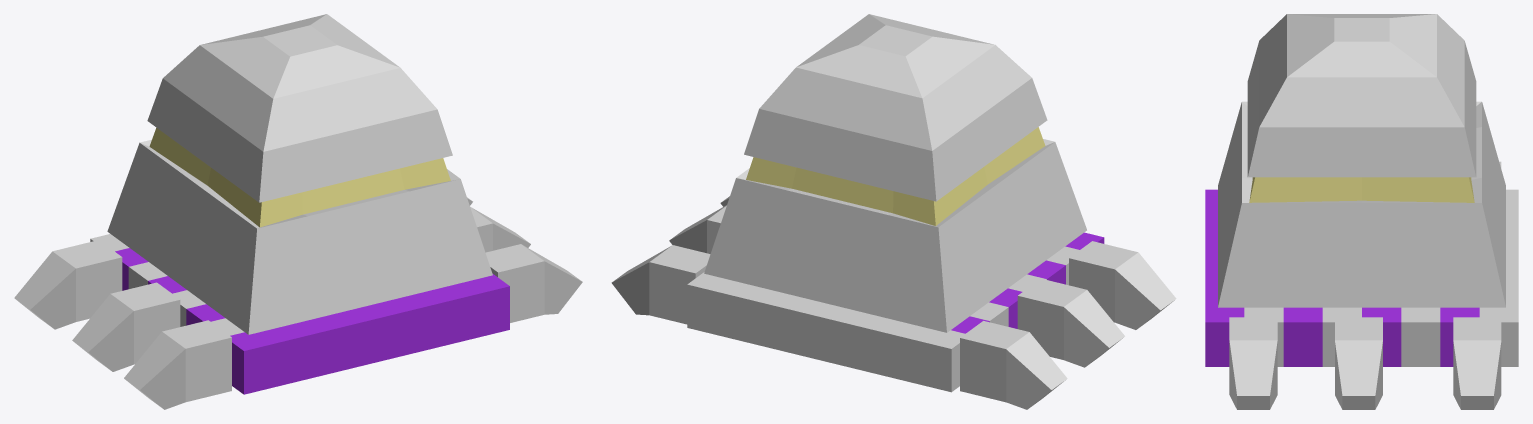
Rendered from DynamicColorDrone.glb.
The picture shows the model from 3 angles, left to right: view 1: azimuth 30°, elevation 25°; view 2: azimuth 150°, elevation 25°; view 3: azimuth 270°, elevation 25°; orthographic projection. The views are drawn at different scales.
Parts seen in each view (by area): view 1: Cube; view 2: Cube; view 3: Cube.
Part boxes in pixels (<box>): Cube: <box>14,14,582,409</box>; Cube: <box>611,14,1176,409</box>; Cube: <box>1205,14,1518,409</box>.
Size of the model in its own units: 1.97 by 1.17 by 1.18.
